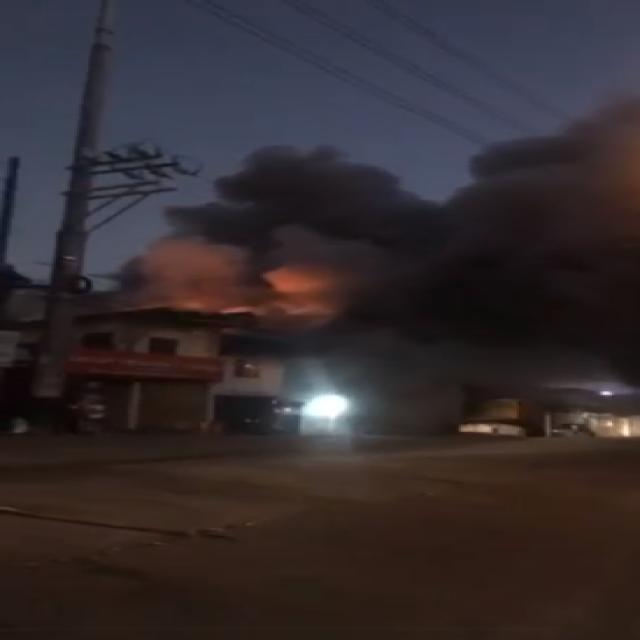Smoke: (256, 152, 640, 348), (153, 216, 269, 286)
